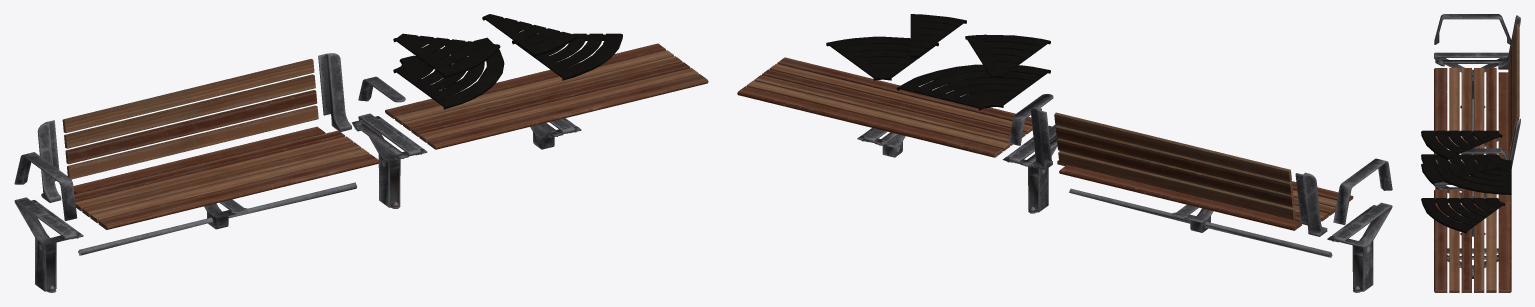
The model's file is modular_street_seating.glb.
3 renders of one model, left to right at view 1: azimuth 30°, elevation 25°; view 2: azimuth 150°, elevation 25°; view 3: azimuth 270°, elevation 25°, orthographic. The views are drawn at different scales.
Visible parts, largest first — view 1: seat_back, seat, seat_bench, connector_90, legs_double, connector_45, legs_single, connector_60, connector_30, back_support_l, crossbar, arm_rest_01 (+4 smaller); view 2: seat_bench, seat_back, connector_90, seat, connector_60, legs_single, connector_45, legs_double, crossbar, connector_30, arm_rest_01, back_support_r (+4 smaller); view 3: seat_bench, seat, connector_90, connector_60, connector_45, seat_back, connector_30, legs_single, arm_rest_01, arm_rest_02, back_support_r, legs_double (+3 smaller).
Part boxes in pixels (x1,y1,x2,y2): seat_back: [62, 59, 318, 179]; seat: [73, 126, 379, 229]; seat_bench: [385, 43, 708, 149]; connector_90: [393, 37, 504, 109]; legs_double: [351, 113, 427, 208]; connector_45: [393, 33, 500, 78]; legs_single: [14, 197, 83, 292]; connector_60: [512, 33, 622, 80]; connector_30: [482, 14, 577, 56]; back_support_l: [318, 53, 351, 131]; crossbar: [78, 182, 357, 255]; arm_rest_01: [14, 152, 77, 220]; seat_bench: [737, 57, 1032, 157]; seat_back: [1054, 112, 1295, 220]; connector_90: [896, 64, 1050, 110]; seat: [1057, 160, 1353, 230]; connector_60: [826, 36, 938, 80]; legs_single: [1327, 202, 1392, 292]; connector_45: [965, 34, 1050, 78]; legs_double: [1002, 125, 1058, 213]; crossbar: [1069, 188, 1332, 257]; connector_30: [910, 14, 966, 57]; arm_rest_01: [1333, 158, 1392, 224]; back_support_r: [1295, 172, 1327, 236]; seat_bench: [1434, 189, 1511, 292]; seat: [1434, 68, 1508, 163]; connector_90: [1421, 154, 1511, 194]; connector_60: [1421, 198, 1505, 233]; connector_45: [1421, 130, 1502, 160]; seat_back: [1508, 24, 1519, 157]; connector_30: [1421, 163, 1500, 184]; legs_single: [1434, 52, 1508, 108]; arm_rest_01: [1434, 14, 1511, 44]; arm_rest_02: [1460, 148, 1508, 159]; back_support_r: [1498, 15, 1520, 69]; legs_double: [1434, 181, 1486, 236].
Bounding box in the file's own units: 4.34 × 0.95 × 0.7704.
4 materials, 4 textured.
